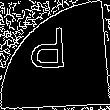P_S: (34, 29, 76, 81)
